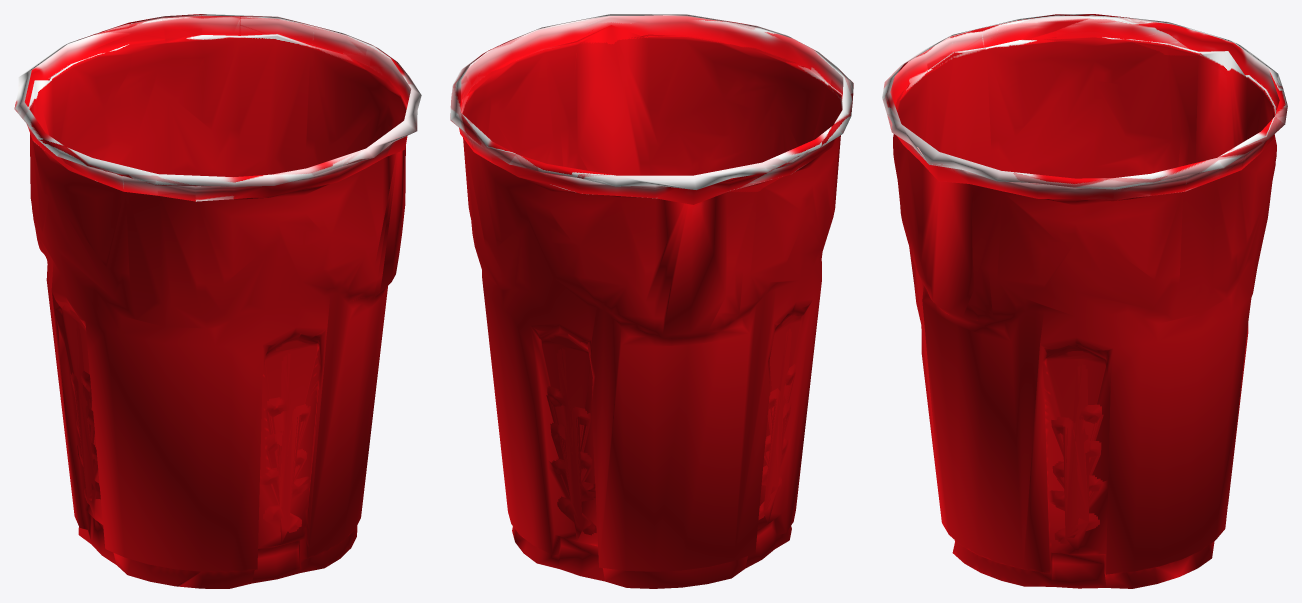
File: redSoloCup.fbx
3 renders of one model, left to right at view 1: azimuth 30°, elevation 25°; view 2: azimuth 150°, elevation 25°; view 3: azimuth 270°, elevation 25°, orthographic.
Visible parts, largest first — view 1: Cylinder.002; view 2: Cylinder.002; view 3: Cylinder.002.
Boxes of the visible parts, box(x1,y1,x2,y2) form: Cylinder.002: box(14, 14, 421, 588); Cylinder.002: box(450, 14, 853, 588); Cylinder.002: box(882, 14, 1287, 588).
Size of the model in its own units: 273 by 322 by 271.
